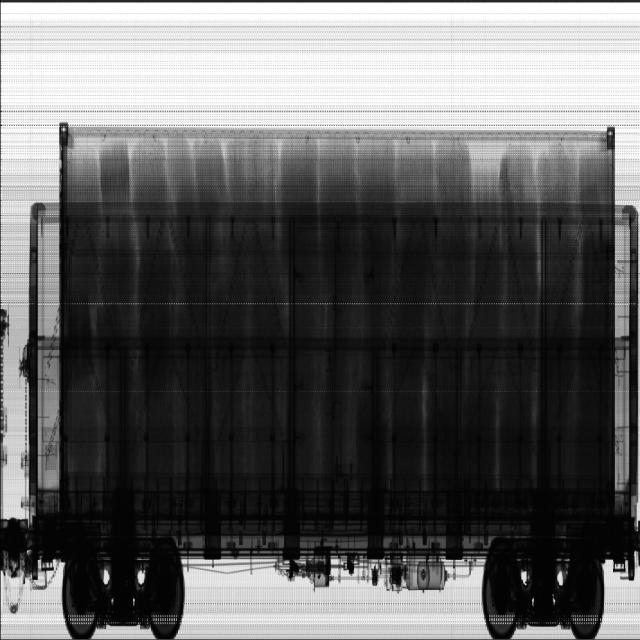clothes: (64, 138, 611, 501)
